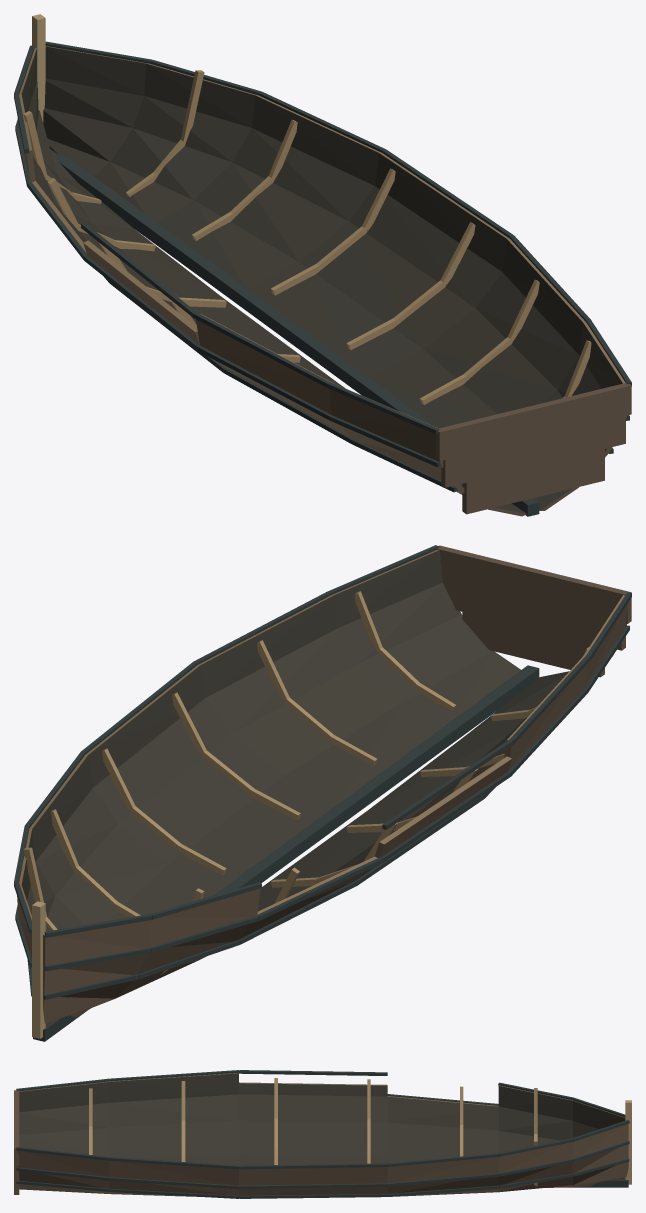
File: SW_Hull_CogWreck.fbx
The picture shows the model from 3 angles, top to bottom: view 1: azimuth 30°, elevation 25°; view 2: azimuth 150°, elevation 25°; view 3: azimuth 270°, elevation 25°; orthographic projection. The views are drawn at different scales.
Visible parts, largest first — view 1: SW_Hull_CogWreck; view 2: SW_Hull_CogWreck; view 3: SW_Hull_CogWreck.
Boxes of the visible parts, bbox=[...] form: SW_Hull_CogWreck: bbox=[14, 14, 631, 516]; SW_Hull_CogWreck: bbox=[14, 545, 631, 1041]; SW_Hull_CogWreck: bbox=[14, 1070, 631, 1198].
Size of the model in its own units: 12.36 by 5.02 by 33.32.
